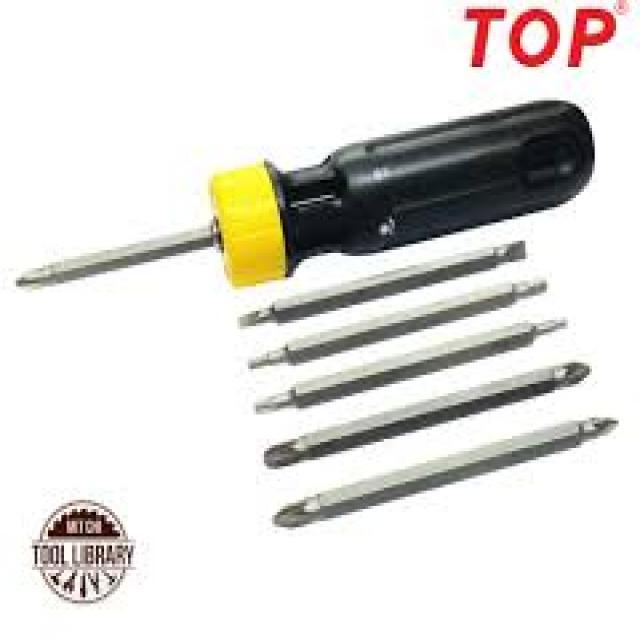screwdriver: (10, 97, 598, 296)
